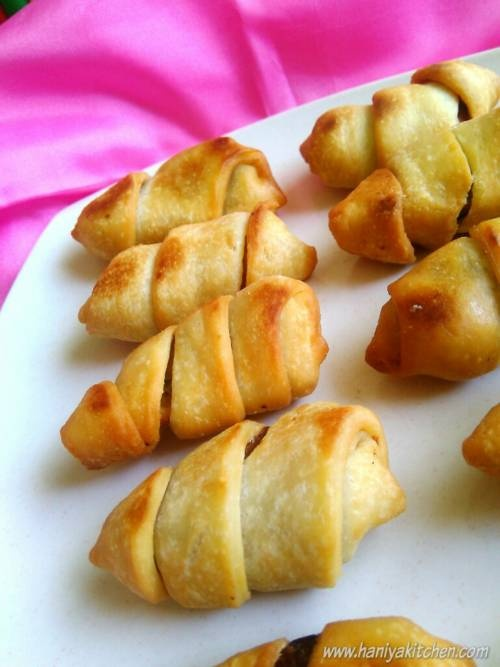pisang_molen: (87, 404, 407, 612), (37, 274, 324, 467), (69, 134, 291, 263)
